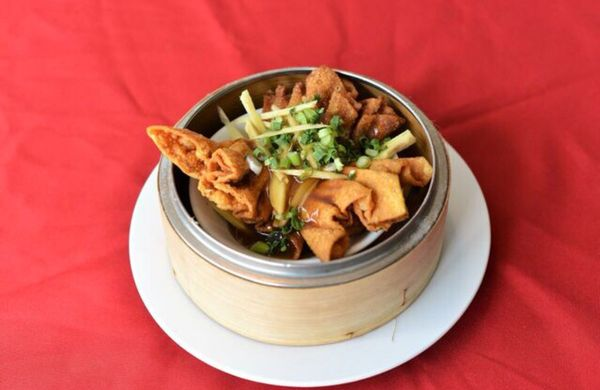sushi: (150, 65, 452, 346)
